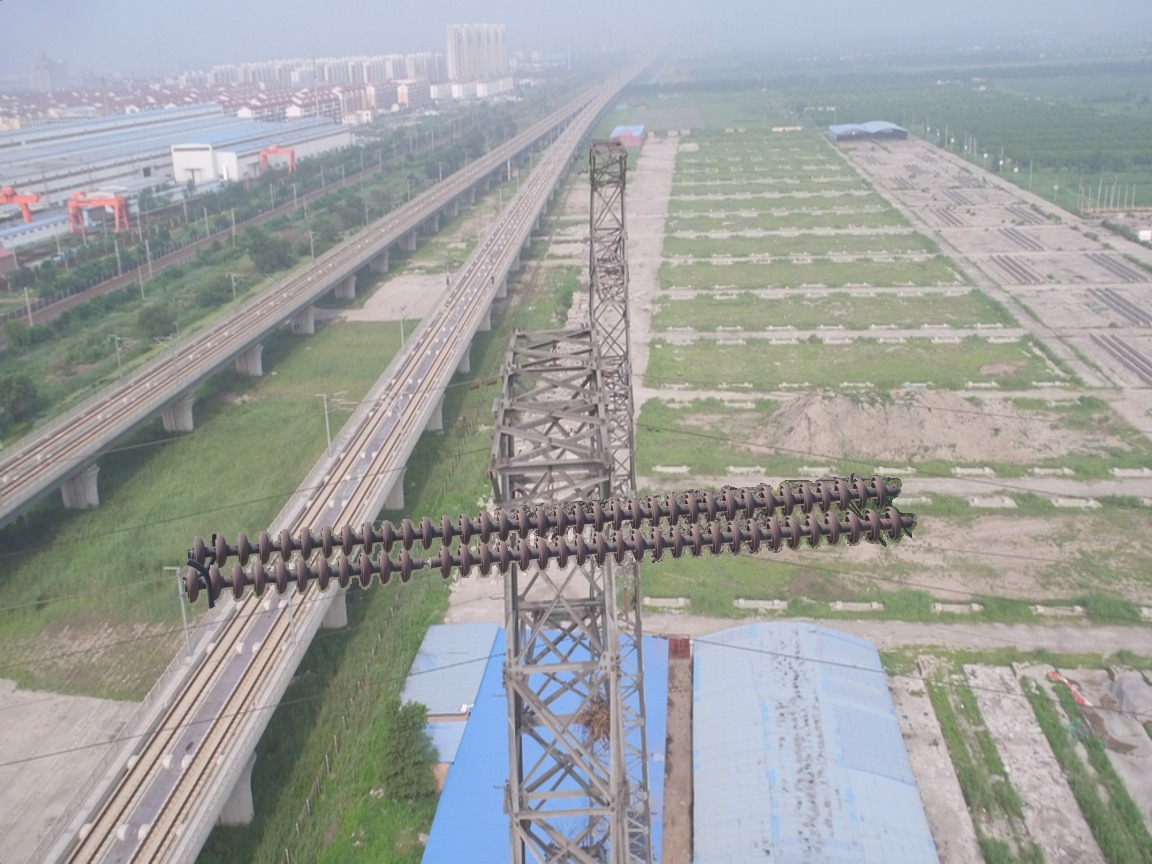defect: (393, 545, 460, 585)
